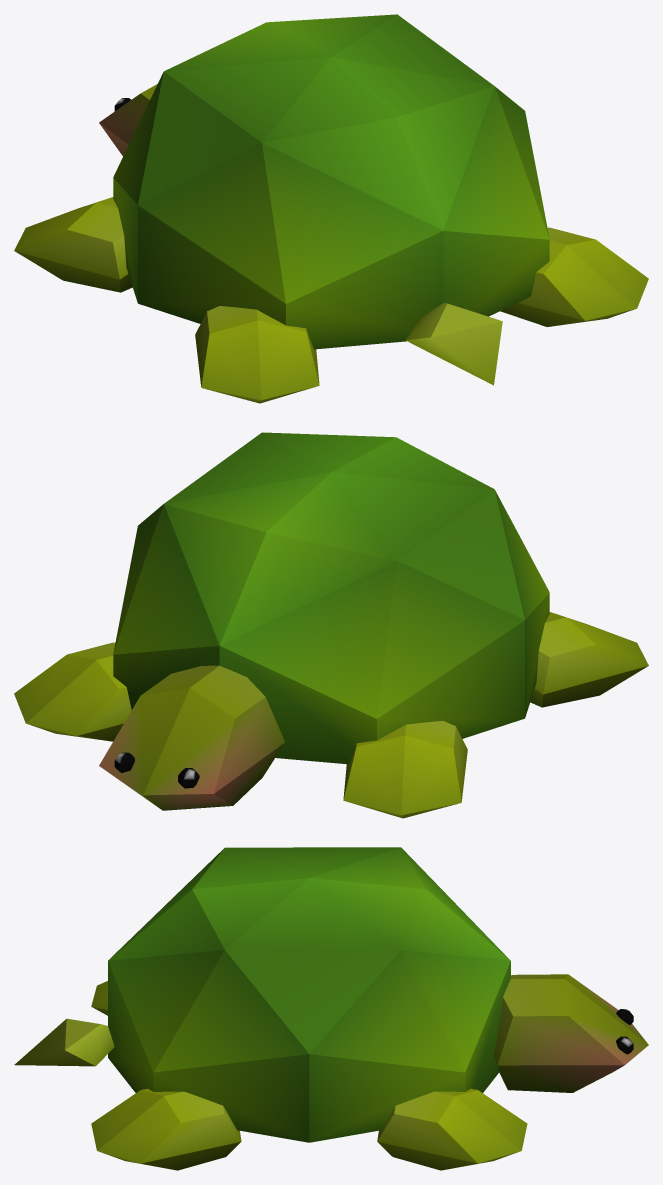
The model's file is tortle.glb.
The picture shows the model from 3 angles, top to bottom: view 1: azimuth 30°, elevation 25°; view 2: azimuth 150°, elevation 25°; view 3: azimuth 270°, elevation 25°; orthographic projection. The views are drawn at different scales.
Visible parts, largest first — view 1: Cube, Cube.002, Cube.003, Cube.001; view 2: Cube, Cube.002, Cube.001, Sphere; view 3: Cube, Cube.002, Cube.001, Cube.003.
Part boxes in pixels (bbox=[...]): Cube: bbox=[113, 14, 549, 349]; Cube.002: bbox=[14, 197, 648, 403]; Cube.003: bbox=[405, 302, 502, 385]; Cube.001: bbox=[99, 84, 157, 156]; Cube: bbox=[113, 432, 549, 764]; Cube.002: bbox=[14, 612, 648, 818]; Cube.001: bbox=[99, 665, 285, 810]; Sphere: bbox=[114, 752, 199, 788]; Cube: bbox=[108, 847, 510, 1142]; Cube.002: bbox=[91, 981, 527, 1170]; Cube.001: bbox=[494, 974, 648, 1092]; Cube.003: bbox=[14, 1018, 114, 1066].
Size of the model in its own units: 2.31 by 1.13 by 3.15.
